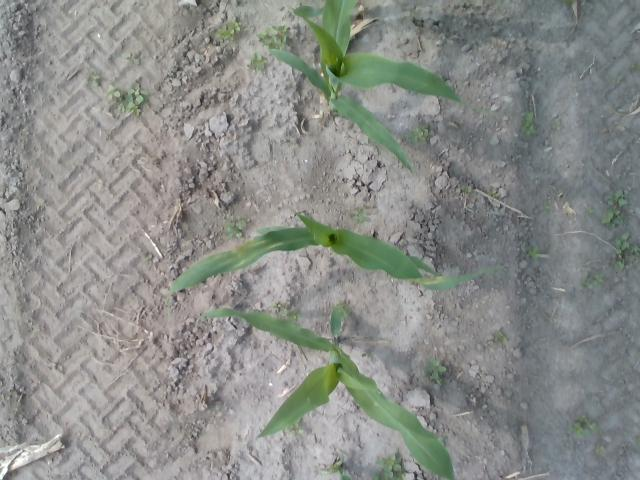Maize: (198, 303, 456, 480), (268, 0, 462, 171), (171, 211, 504, 294), (325, 461, 350, 480)
Weeds: (603, 190, 626, 228), (259, 25, 291, 47), (613, 245, 640, 269), (224, 216, 246, 239), (125, 80, 147, 103), (424, 360, 448, 380), (582, 270, 602, 288), (373, 462, 392, 480), (119, 100, 141, 115), (122, 51, 140, 67), (276, 301, 296, 315), (616, 231, 630, 250), (572, 421, 588, 436), (250, 55, 266, 70), (106, 86, 120, 102), (581, 416, 597, 430), (522, 113, 533, 132), (218, 26, 232, 40), (388, 456, 401, 471), (229, 22, 243, 35), (351, 212, 366, 222), (525, 246, 537, 258), (338, 305, 349, 317), (288, 425, 300, 436), (87, 74, 100, 84), (494, 332, 506, 342), (538, 202, 550, 212), (488, 188, 499, 198), (422, 128, 433, 138), (462, 185, 472, 195), (412, 130, 422, 140), (596, 440, 605, 450), (584, 204, 593, 214), (552, 120, 561, 130), (630, 62, 638, 73), (613, 77, 622, 85), (144, 252, 152, 260)
